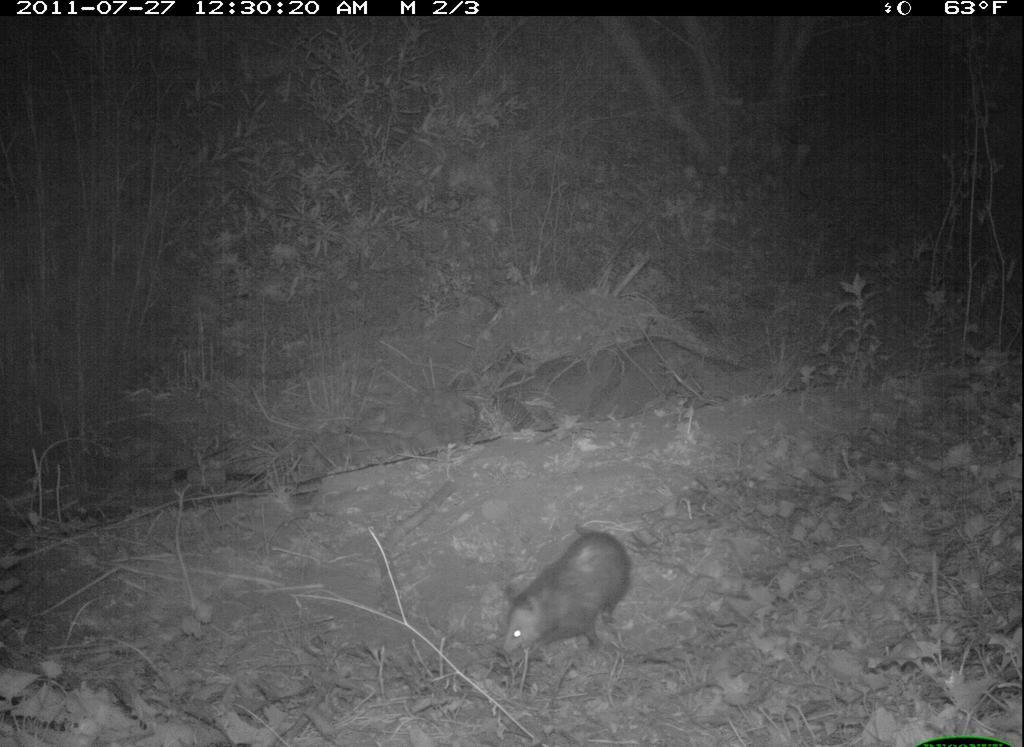opossum: (498, 516, 639, 671)
